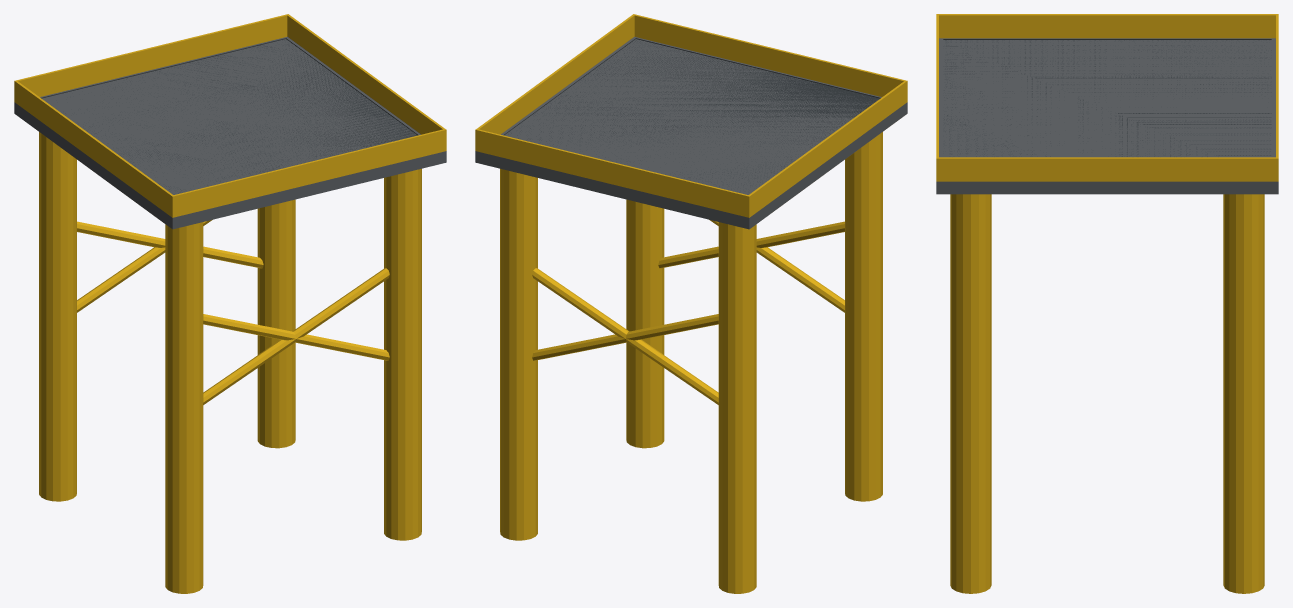
File: pv_plosina.glb
3 views of the same model, side by side, from view 1: azimuth 30°, elevation 25°; view 2: azimuth 150°, elevation 25°; view 3: azimuth 270°, elevation 25° (orthographic). The views are drawn at different scales.
Visible parts, largest first — view 1: dum; view 2: dum; view 3: dum.
Boxes of the visible parts, left/top/right/bottom form: dum: left=14, top=14, right=446, bottom=593; dum: left=475, top=14, right=907, bottom=593; dum: left=936, top=14, right=1278, bottom=593.
Bounding box in the file's own units: 14.8 × 21.05 × 14.8.
Materials: 1 (1 with a texture image).
